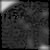node: (39, 43, 49, 50)
